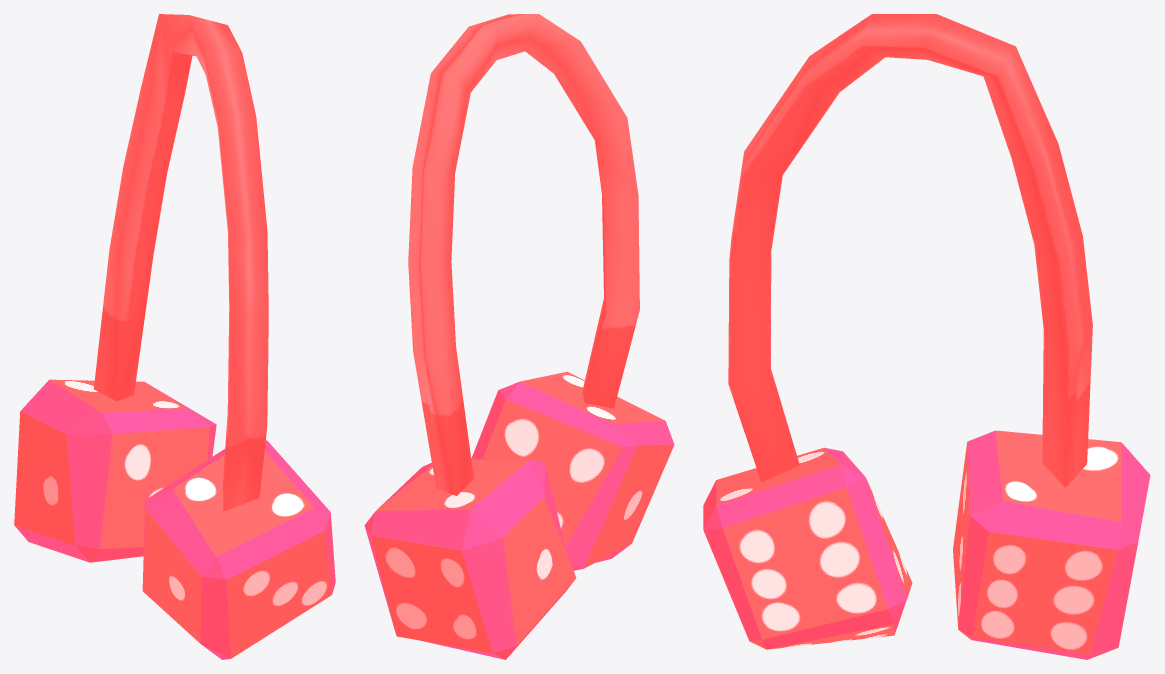
File: Dice.fbx
The picture shows the model from 3 angles, left to right: view 1: azimuth 30°, elevation 25°; view 2: azimuth 150°, elevation 25°; view 3: azimuth 270°, elevation 25°; orthographic projection. The views are drawn at different scales.
Visible parts, largest first — view 1: Valuable_Dice; view 2: Valuable_Dice; view 3: Valuable_Dice.
Boxes of the visible parts, <box> form: Valuable_Dice: <box>14,14,335,659</box>; Valuable_Dice: <box>364,14,674,659</box>; Valuable_Dice: <box>703,14,1150,659</box>.
Bounding box in the file's own units: 31.28 × 104 × 65.16.
